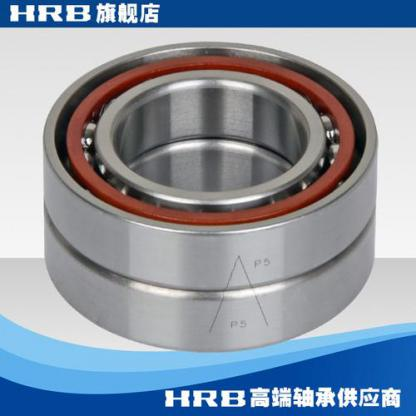FOD: (40, 37, 396, 354)
